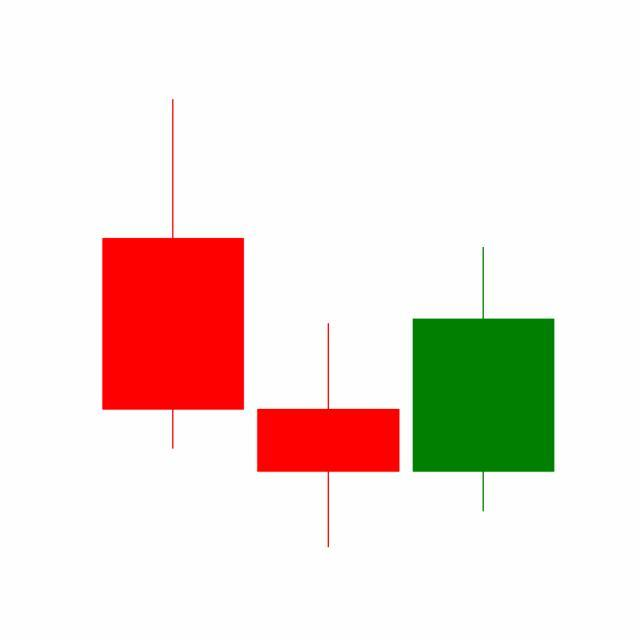Spinning Top: (250, 322, 407, 551)
